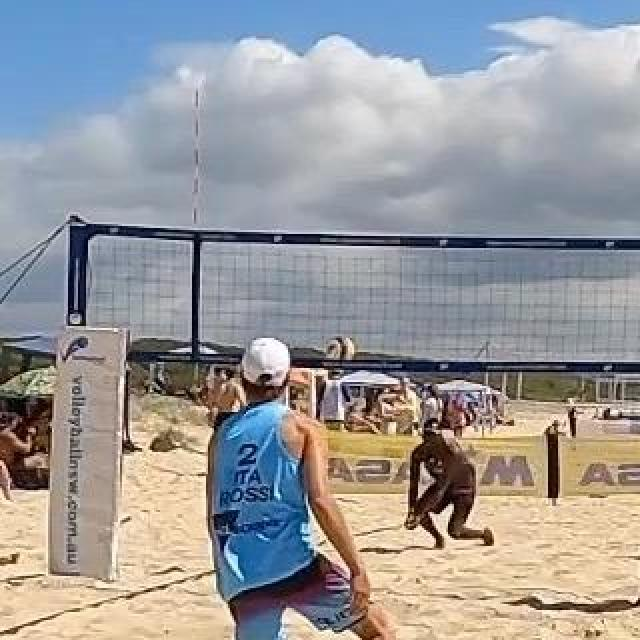volleyball: (326, 335, 356, 363)
